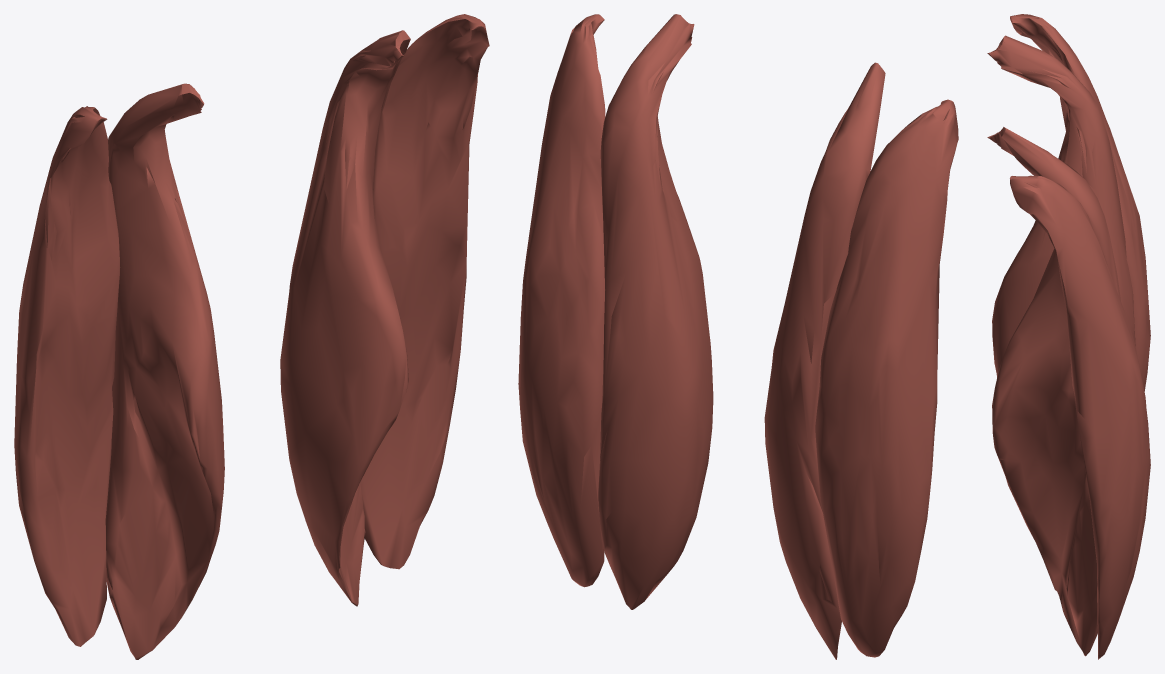
The model's file is gastrocnemius.glb.
3 views of the same model, side by side, from view 1: azimuth 30°, elevation 25°; view 2: azimuth 150°, elevation 25°; view 3: azimuth 270°, elevation 25° (orthographic). The views are drawn at different scales.
Visible parts, largest first — view 1: Gastrocnemius; view 2: Gastrocnemius; view 3: Gastrocnemius.
Boxes of the visible parts, bbox=[...] form: Gastrocnemius: bbox=[14, 14, 489, 659]; Gastrocnemius: bbox=[518, 14, 958, 659]; Gastrocnemius: bbox=[987, 14, 1150, 659].
Size of the model in its own units: 0.234 by 0.3091 by 0.0869.
